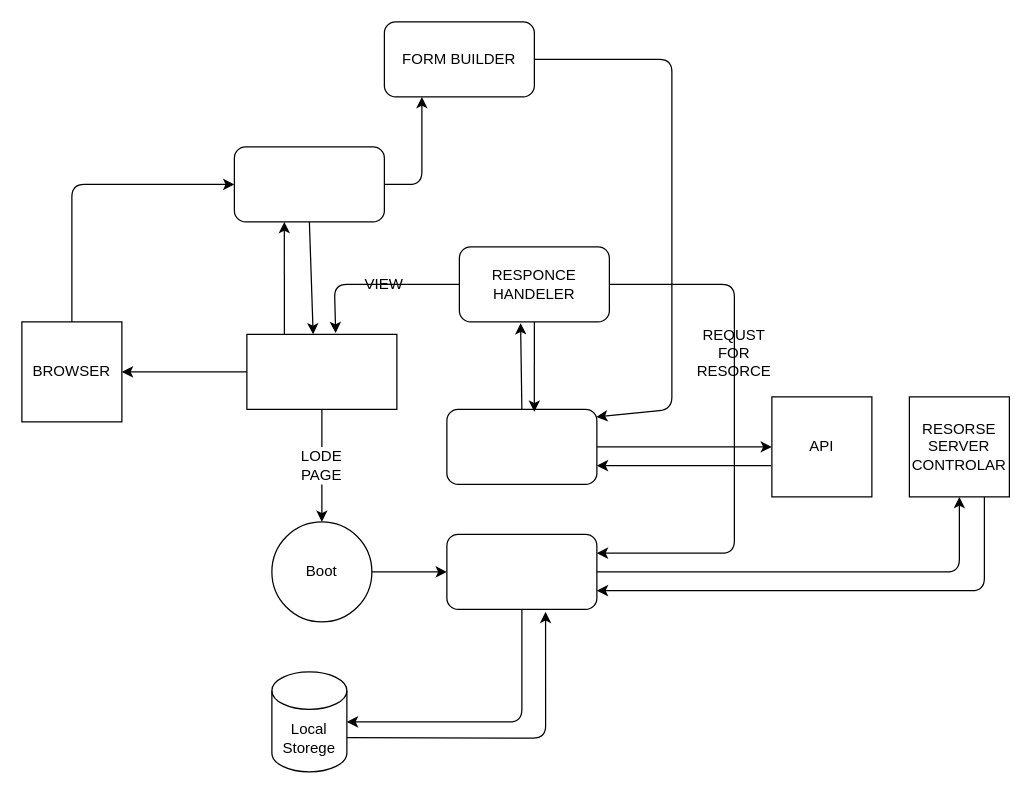
The diagram is 1031 pixels wide and 794 high, and some of its shapes have lost their labels. Each missing label, with the box of its shape:
EVENTS: (233, 146, 384, 222)
PROJETOE: (246, 333, 397, 409)
REQUEST MAKER: (446, 408, 597, 484)
Resorce Manager: (446, 533, 597, 609)
